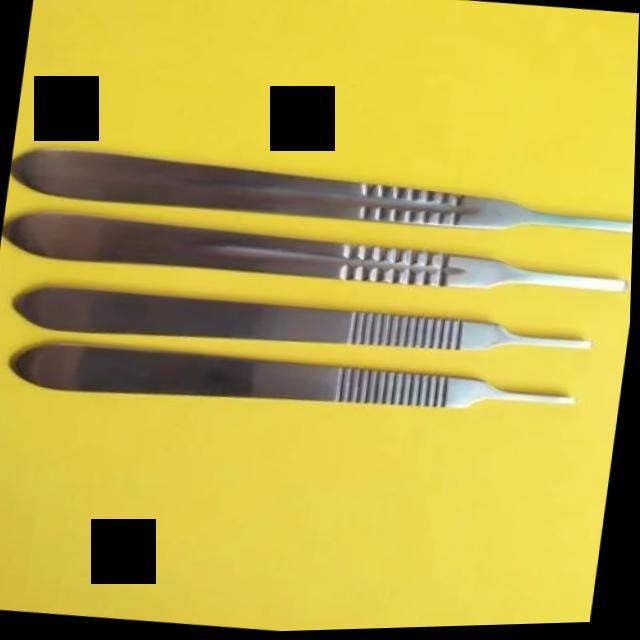Knife handle: (0, 192, 635, 331), (4, 133, 636, 263), (4, 261, 610, 394), (4, 328, 582, 448)
